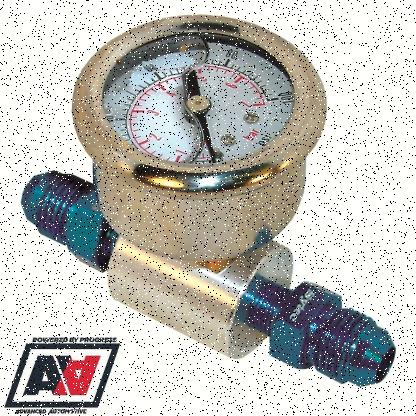needle: (195, 112, 217, 164)
